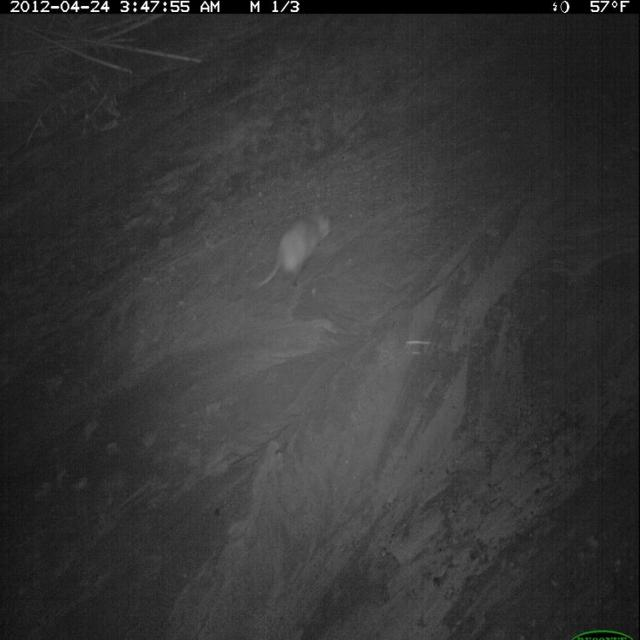opossum: (252, 207, 337, 295)
